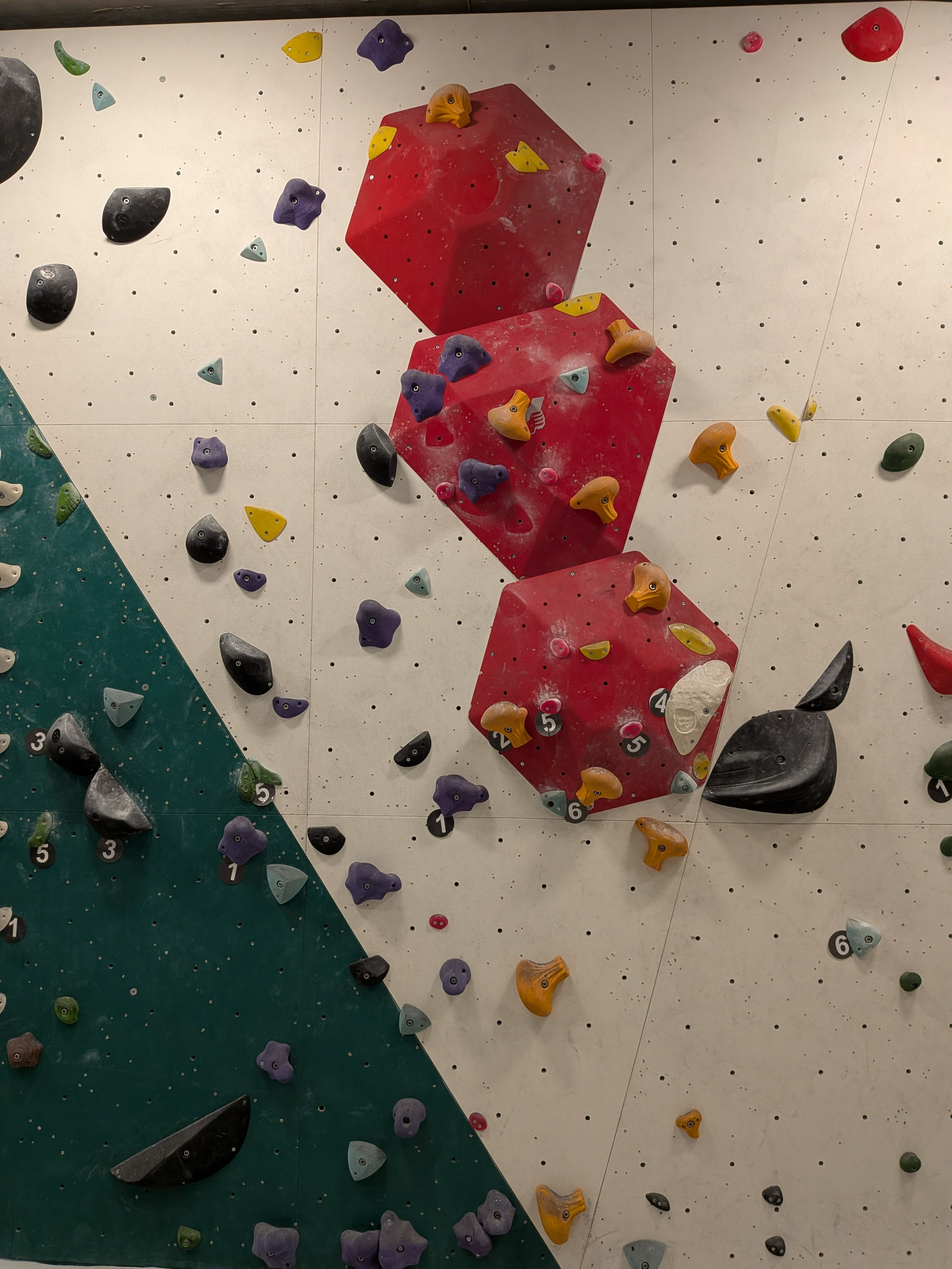hold: (703, 710, 836, 814), (112, 1095, 250, 1188), (665, 660, 732, 755), (0, 57, 42, 182), (84, 766, 152, 837), (796, 641, 853, 711), (102, 187, 170, 243), (44, 713, 100, 776), (841, 7, 903, 62), (220, 632, 273, 695), (515, 956, 569, 1017), (26, 264, 77, 324), (907, 626, 952, 694), (536, 1185, 586, 1244), (357, 19, 413, 71), (636, 817, 689, 871), (689, 422, 738, 480), (378, 1211, 427, 1269), (273, 178, 325, 230), (356, 424, 397, 487), (439, 334, 492, 382), (218, 816, 268, 865), (345, 862, 401, 904), (570, 476, 619, 524), (625, 562, 671, 613), (401, 369, 446, 421), (434, 774, 489, 816), (605, 319, 656, 364), (487, 390, 531, 441), (252, 1222, 299, 1269), (459, 458, 509, 502), (186, 515, 228, 563), (426, 84, 471, 128), (576, 767, 622, 810), (476, 1190, 515, 1238), (453, 1212, 492, 1257), (881, 432, 924, 471), (103, 687, 143, 727), (267, 864, 307, 904), (256, 1040, 294, 1082), (341, 1229, 379, 1269), (348, 1141, 386, 1180), (669, 623, 715, 655), (245, 506, 287, 541), (394, 731, 432, 767), (348, 955, 389, 988), (393, 1098, 426, 1139), (506, 141, 548, 173), (7, 1031, 43, 1068), (846, 918, 881, 956), (54, 40, 90, 76), (623, 1239, 665, 1269), (767, 406, 801, 442), (439, 958, 471, 996), (191, 437, 228, 469), (307, 825, 346, 855), (282, 32, 321, 62), (923, 740, 952, 779), (56, 481, 81, 524), (399, 1004, 431, 1036), (555, 293, 601, 315), (246, 759, 282, 786), (368, 126, 396, 159), (27, 424, 53, 458), (559, 365, 589, 394), (29, 811, 52, 847), (237, 762, 257, 802), (273, 696, 309, 718), (676, 1109, 702, 1139), (234, 569, 267, 592), (405, 567, 431, 596), (540, 791, 567, 817), (197, 357, 222, 385), (54, 996, 79, 1024), (240, 237, 267, 262), (92, 82, 115, 111), (0, 480, 23, 508), (580, 640, 610, 660), (176, 1226, 201, 1250), (671, 771, 697, 794), (0, 562, 21, 589), (692, 753, 710, 780), (741, 31, 763, 53), (762, 1185, 783, 1208), (645, 1192, 669, 1212), (899, 1152, 921, 1173), (545, 282, 565, 304), (900, 971, 921, 991), (765, 1236, 785, 1257), (620, 721, 643, 739), (0, 647, 15, 674), (435, 481, 455, 501), (550, 638, 570, 658), (539, 697, 561, 714), (583, 153, 602, 172), (0, 906, 13, 933), (802, 397, 817, 420), (469, 1112, 487, 1131), (539, 467, 558, 484), (429, 914, 448, 930), (940, 836, 952, 857), (0, 733, 10, 754), (0, 992, 6, 1012), (0, 820, 7, 837)
volume: (384, 289, 679, 580), (467, 549, 743, 821), (343, 82, 609, 337)
